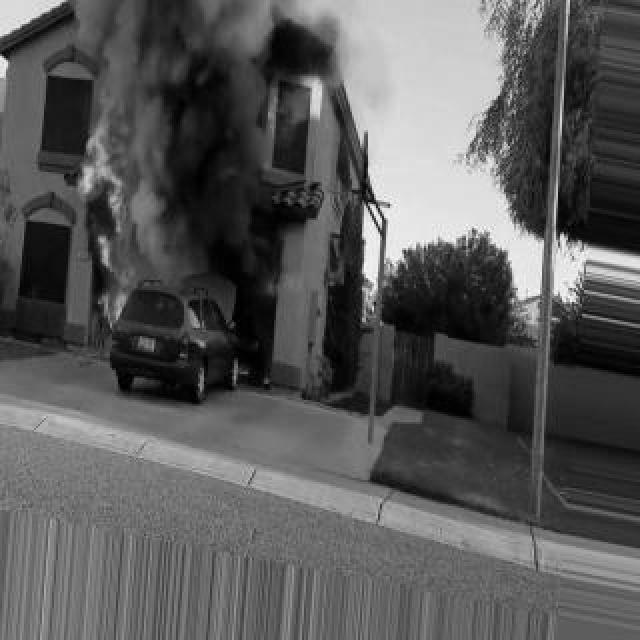Fire: (78, 94, 130, 332)
Smoke: (64, 2, 130, 90)
